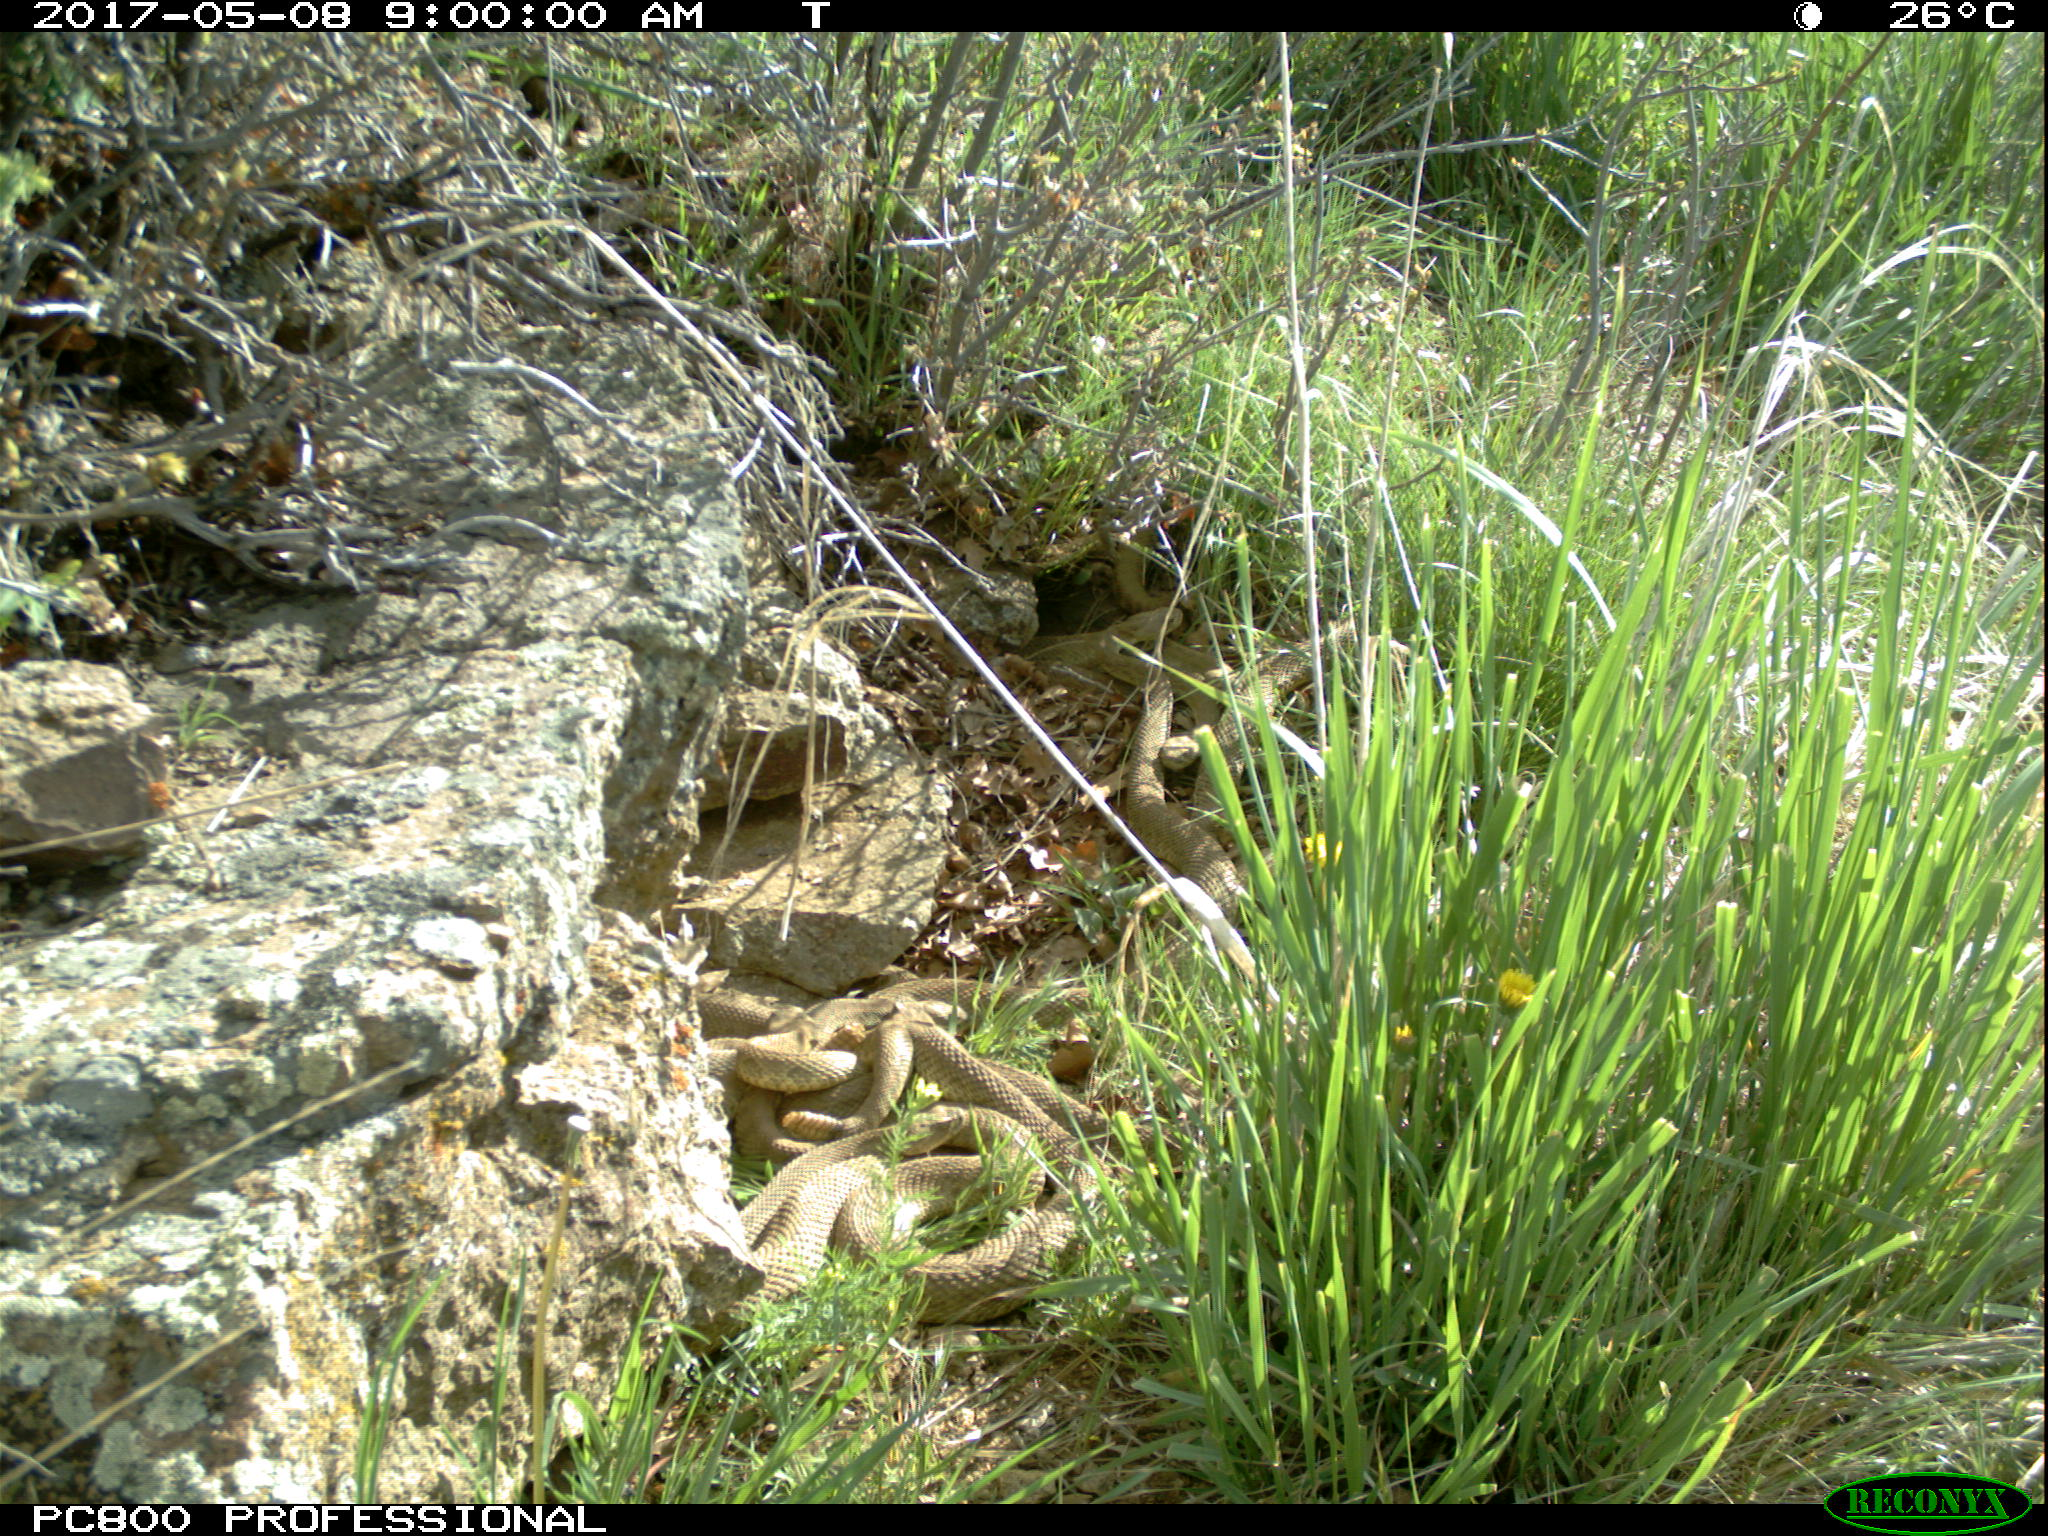snake: (1097, 541, 1309, 945), (692, 1128, 1126, 1321), (674, 970, 1019, 1149), (1232, 624, 1419, 734), (968, 1062, 1126, 1158)
